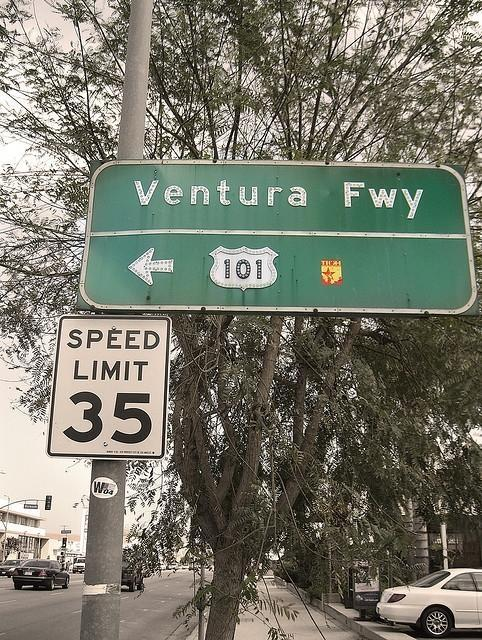car: (377, 568, 482, 636), (12, 558, 72, 592), (120, 554, 146, 592), (0, 559, 26, 578), (72, 556, 86, 574), (142, 568, 152, 578)
